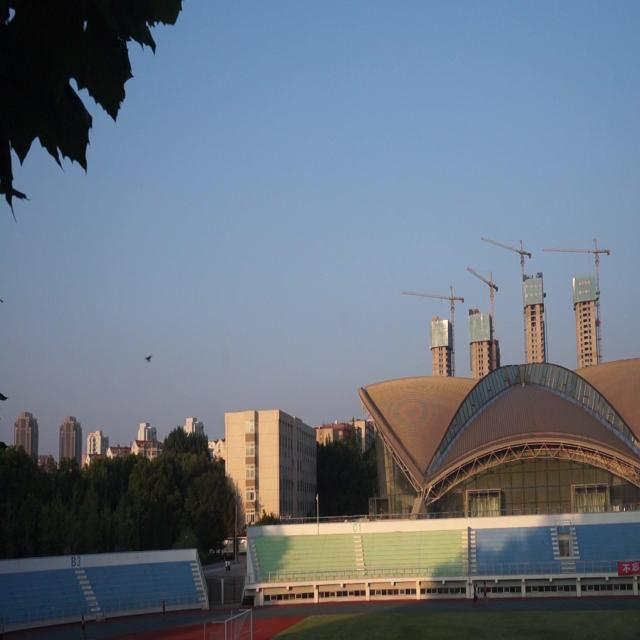drone: (142, 348, 154, 366)
